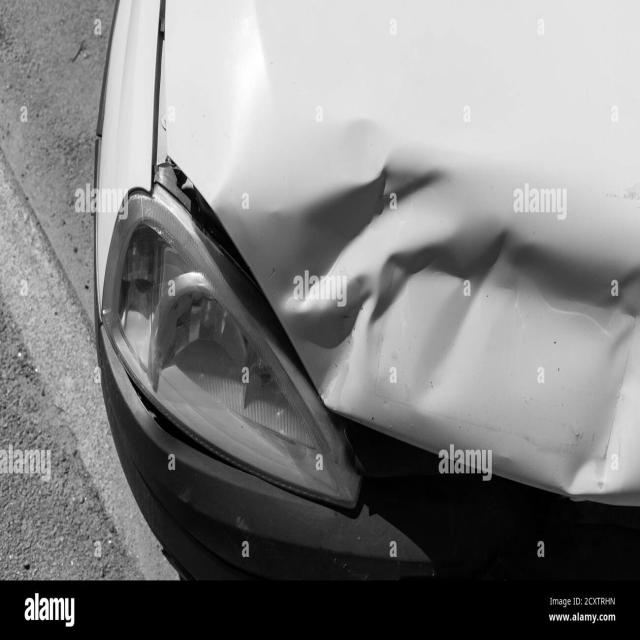crush: (155, 0, 640, 512)
